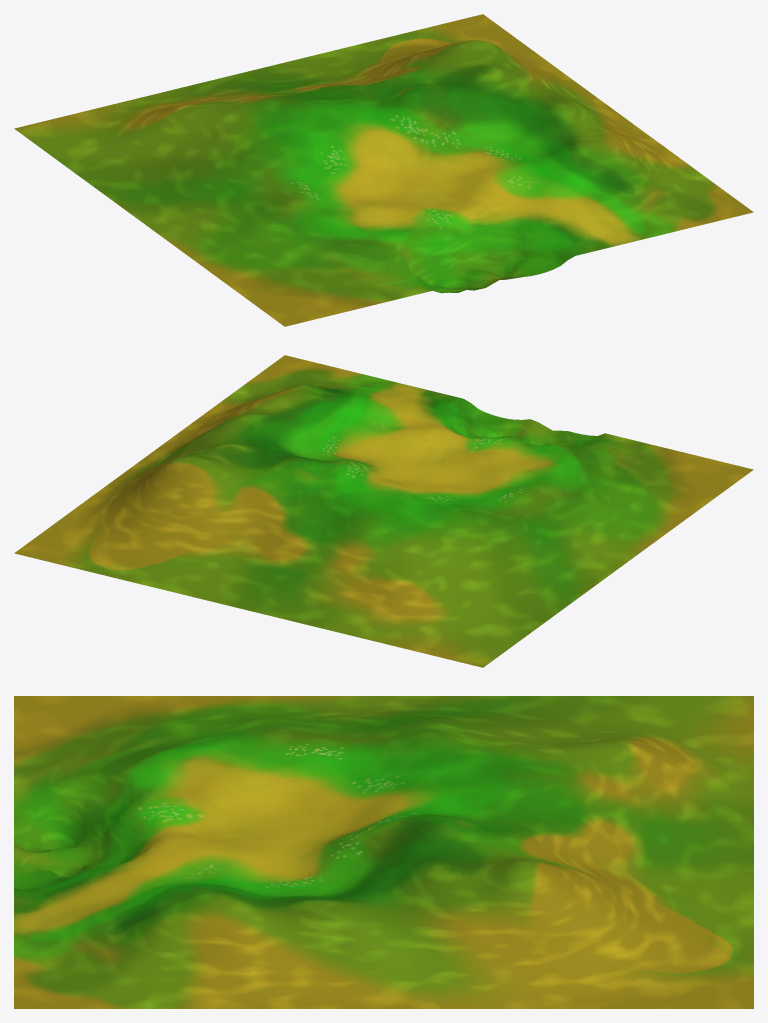
Rendered from Land.fbx.
3 renders of one model, top to bottom at view 1: azimuth 30°, elevation 25°; view 2: azimuth 150°, elevation 25°; view 3: azimuth 270°, elevation 25°, orthographic. The views are drawn at different scales.
Visible parts, largest first — view 1: Land; view 2: Land; view 3: Land.
Part boxes in pixels (x1,y1,x2,y2): Land: (14,14,753,326); Land: (14,355,753,667); Land: (14,696,753,1008).
Size of the model in its own units: 52 by 8.18 by 52.
